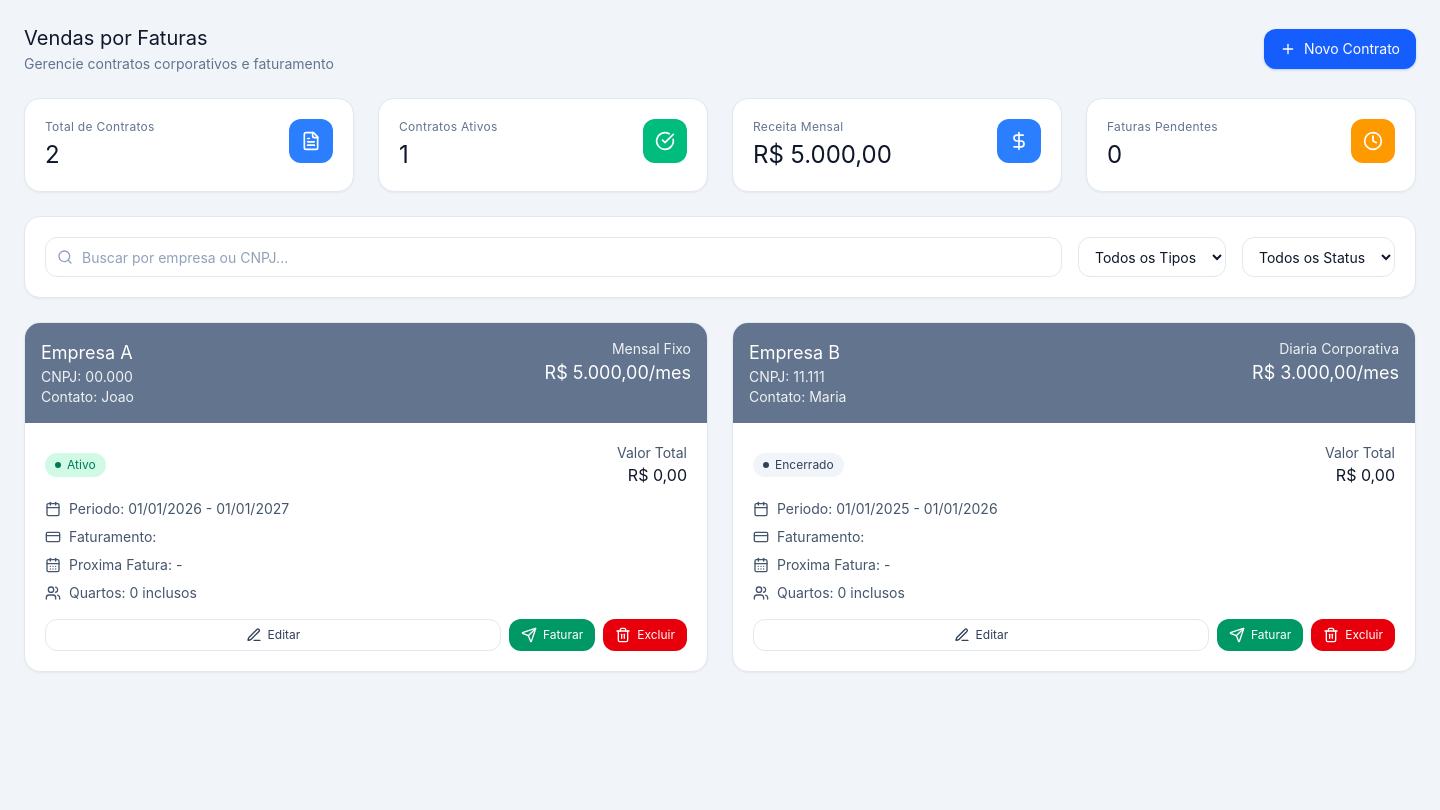
Test: Faturas (expanded) › opens new contrato modal
Click the button "Novo Contrato": click(1340, 49) x1=1264 y1=29 x2=1416 y2=69
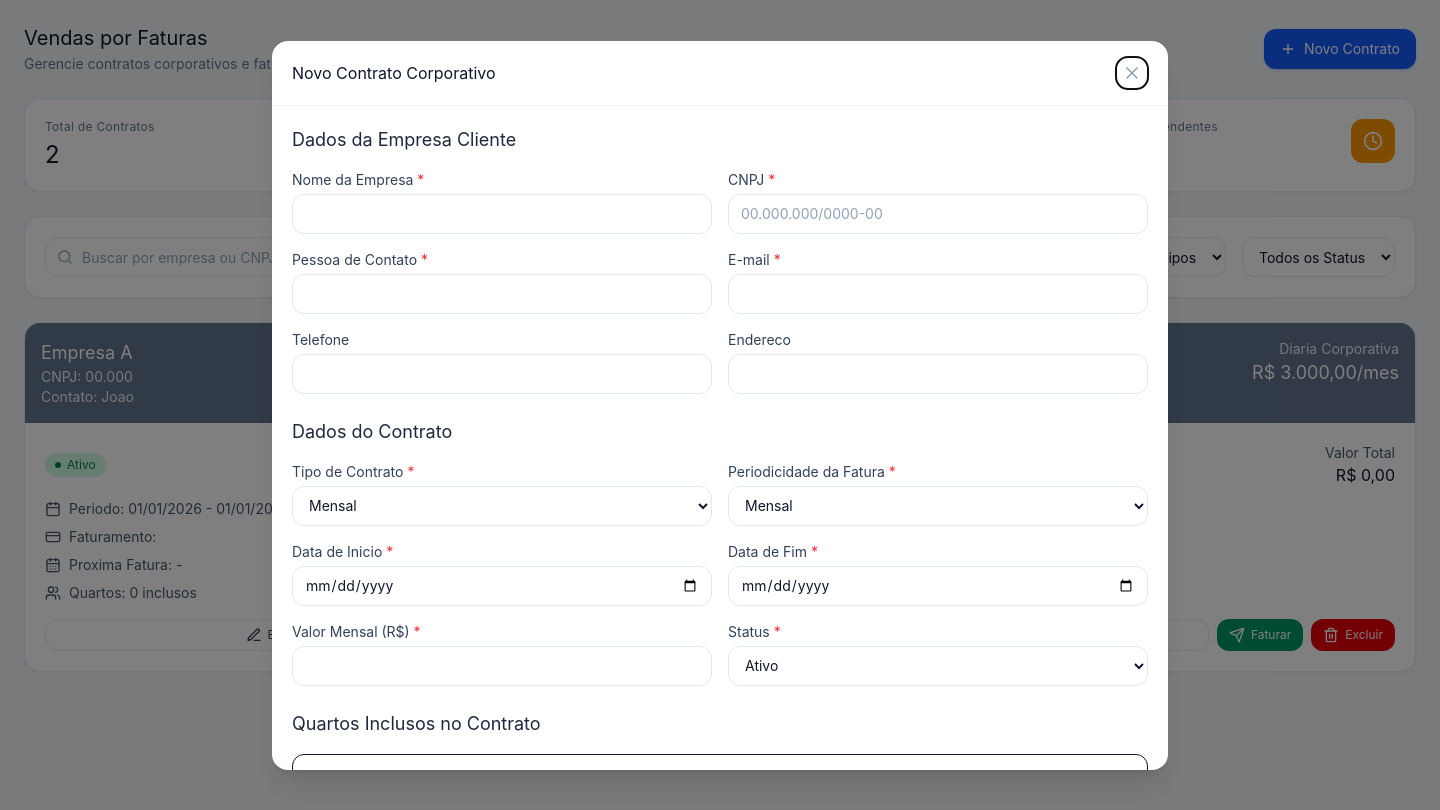
Expected: the heading "Dados da Empresa Cliente" is shown, x1=292 y1=128 x2=516 y2=150
